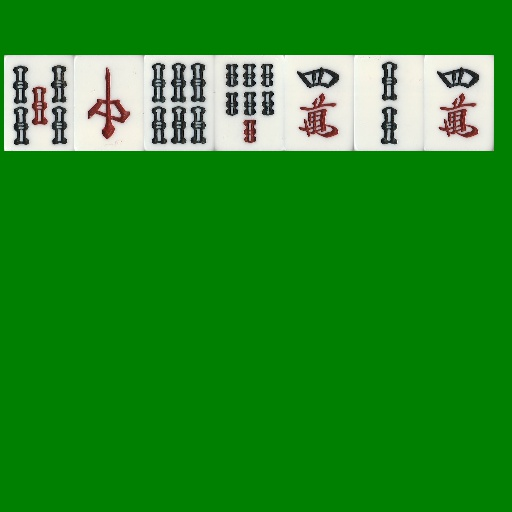2s: (354, 55, 424, 151)
4m: (284, 55, 354, 151), (424, 55, 494, 151)
5s: (4, 55, 74, 151)
6s: (144, 55, 214, 151)
7s: (214, 55, 284, 151)
tyun: (74, 55, 144, 151)
